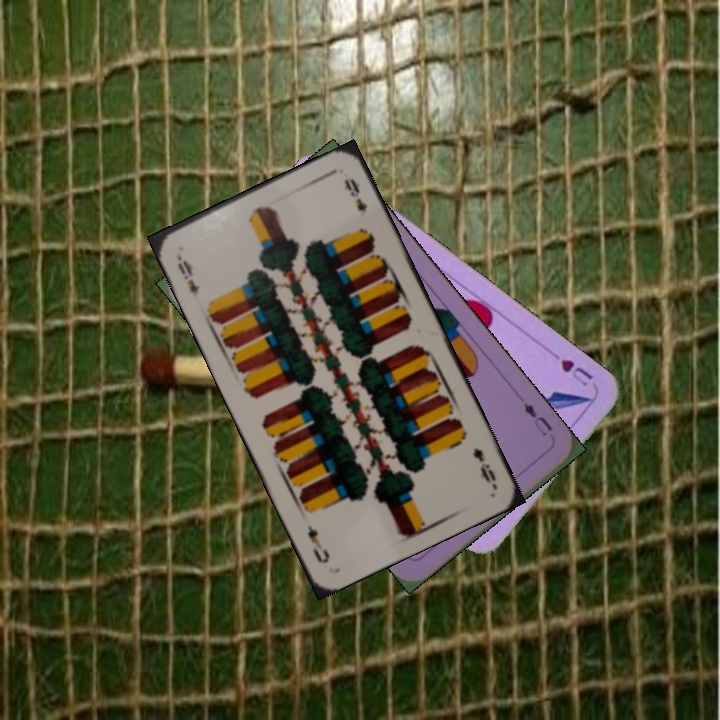E9: (172, 250, 203, 300), (469, 444, 499, 488)
EU: (519, 398, 555, 439)
HU: (556, 355, 596, 390)
